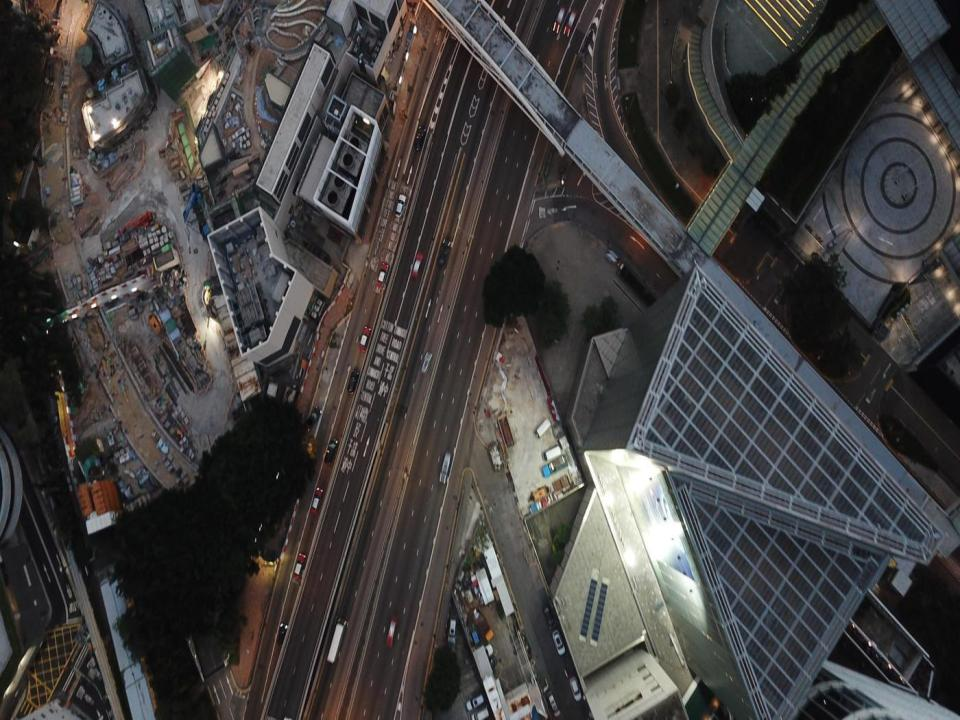car: (303, 407, 322, 433), (564, 8, 577, 37), (386, 616, 398, 647), (552, 5, 565, 33), (413, 127, 426, 151), (420, 351, 433, 375), (311, 488, 323, 513), (438, 239, 450, 264), (553, 630, 565, 655), (359, 325, 370, 351), (412, 252, 423, 278), (377, 263, 388, 288), (294, 554, 305, 579), (277, 623, 287, 644)
truck: (326, 619, 346, 664), (534, 419, 550, 438), (542, 446, 561, 459)
van: (547, 693, 561, 718), (465, 694, 485, 711), (440, 452, 450, 485), (324, 438, 337, 463), (394, 194, 406, 218), (543, 606, 556, 628), (570, 676, 581, 700), (348, 371, 359, 393), (447, 617, 456, 642), (470, 707, 488, 719)
